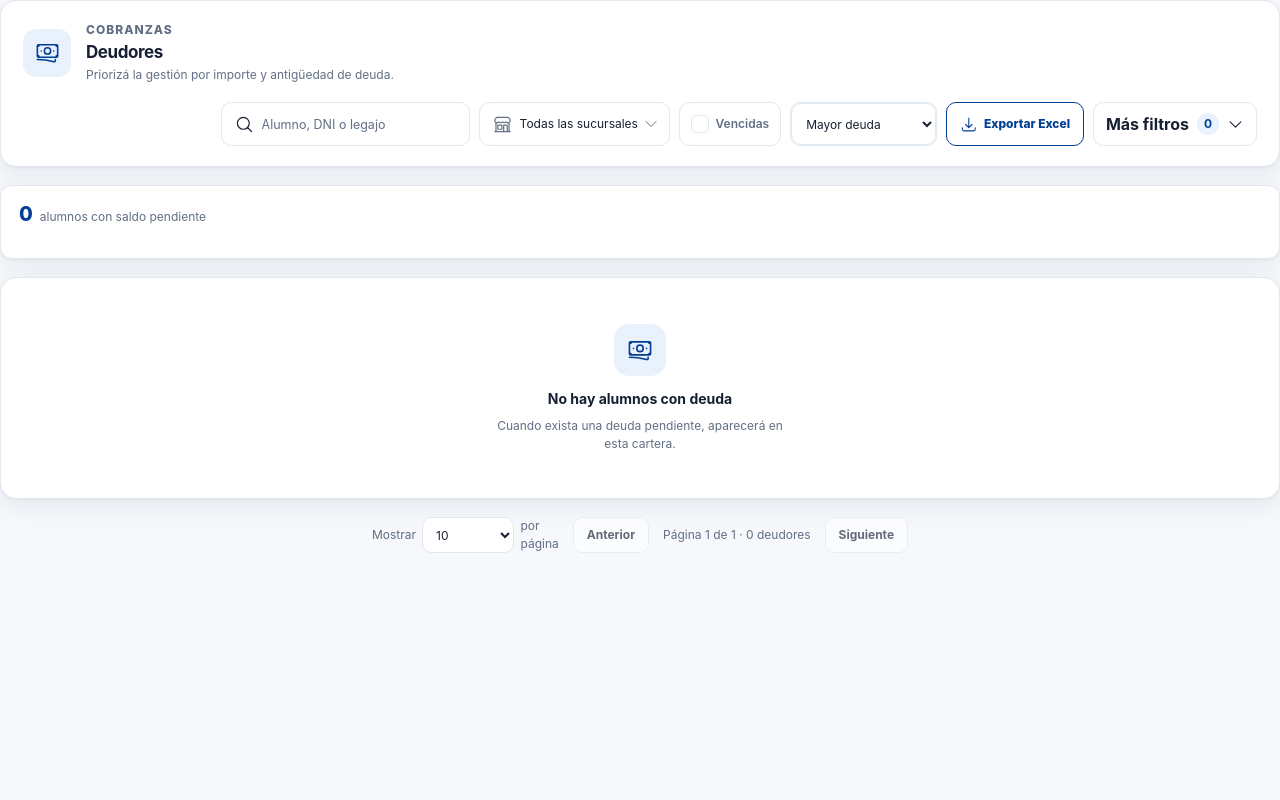
Test case: estados vacíos de Deudores › distingue una cartera vacía de filtros sin coincidencias
Check: the element with class "debtors-empty" shows "No hay alumnos con deuda", box [548, 390, 732, 407]
In the search field with placeholder "Alumno, DNI o legajo": (345, 124) [222, 103, 469, 145], type "alumno inexistente"
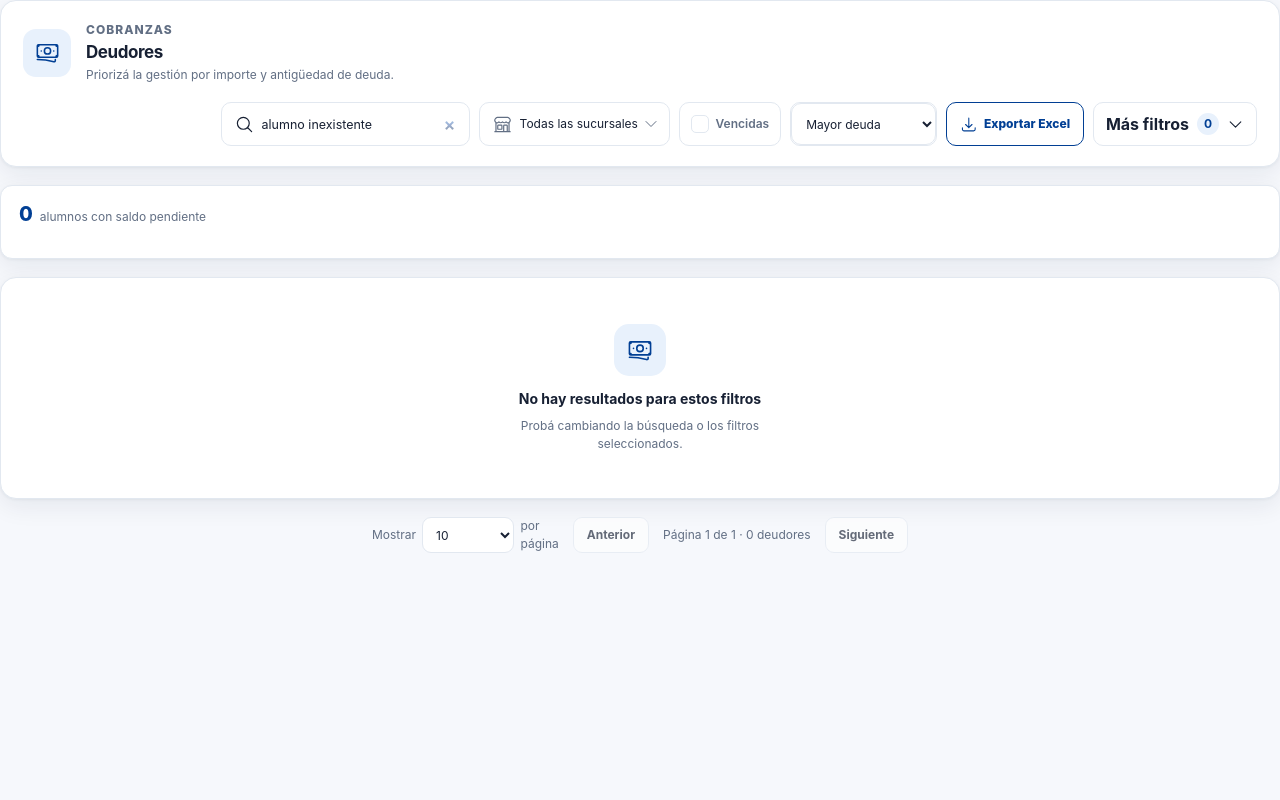
Check: the element with class "debtors-empty" shows "No hay resultados para estos filtros", box [519, 390, 761, 407]
